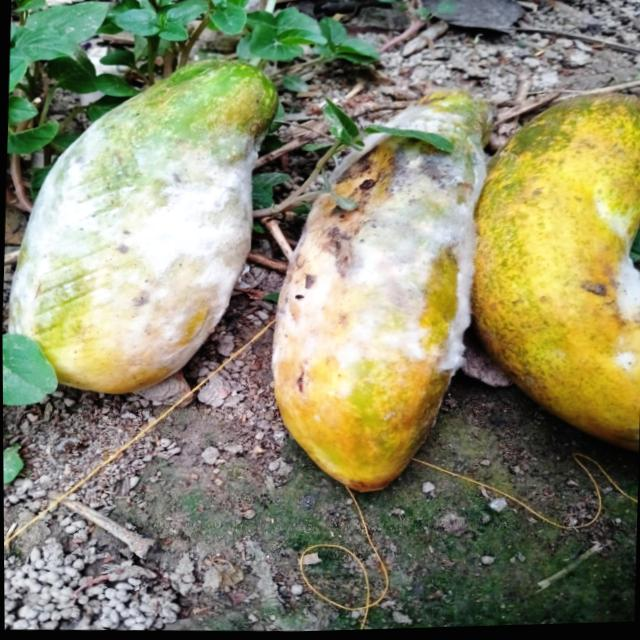Pythium-Fruit-Rot: (1, 104, 264, 368), (256, 97, 491, 390), (577, 188, 640, 377)
